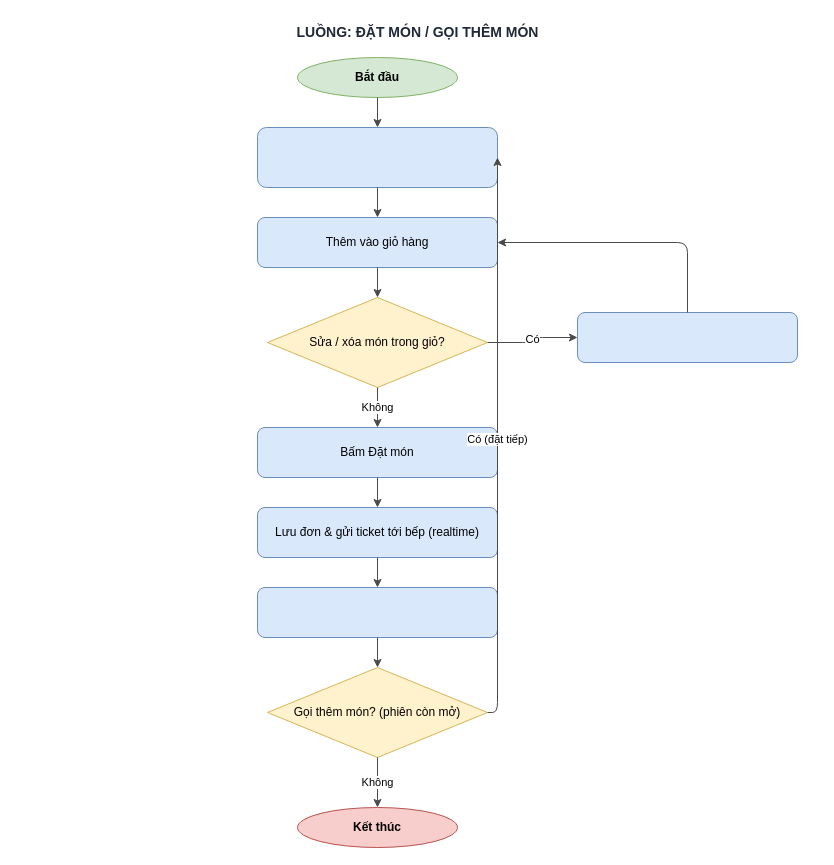
The diagram is 834 pixels wide and 865 high, and some of its shapes have lost their labels. Here are the shapes that lost their labels. From the top down, the centre of each, then its label:
At (x=377, y=157): "Chọn món & tùy chọn (size, mức cay, topping, ghi chú)".
At (x=687, y=337): "Cập nhật giỏ hàng".
At (x=377, y=612): "Theo dõi trạng thái món".
